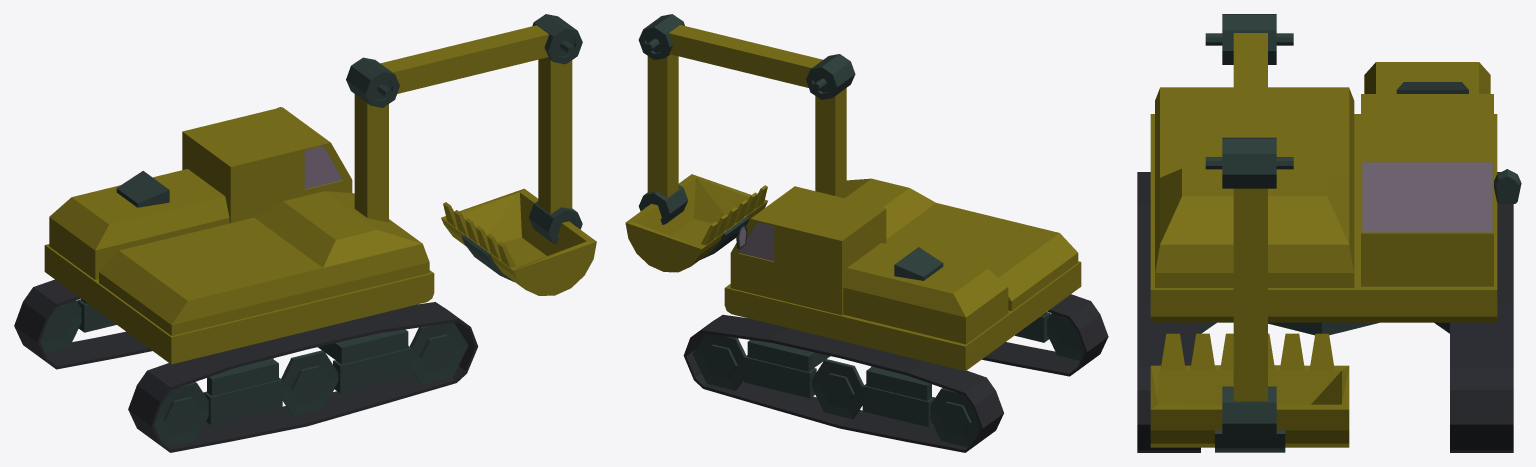
Rendered from Escavadeira.fbx.
3 views of the same model, side by side, from view 1: azimuth 30°, elevation 25°; view 2: azimuth 150°, elevation 25°; view 3: azimuth 270°, elevation 25° (orthographic). The views are drawn at different scales.
Parts seen in each view (by area): view 1: Escavadeira; view 2: Escavadeira; view 3: Escavadeira.
Part boxes in pixels (x1,y1,x2,y2): Escavadeira: (14,14,596,452); Escavadeira: (625,14,1108,452); Escavadeira: (1137,14,1521,452).
Bounding box in the file's own units: 3032 × 1915 × 1591.
